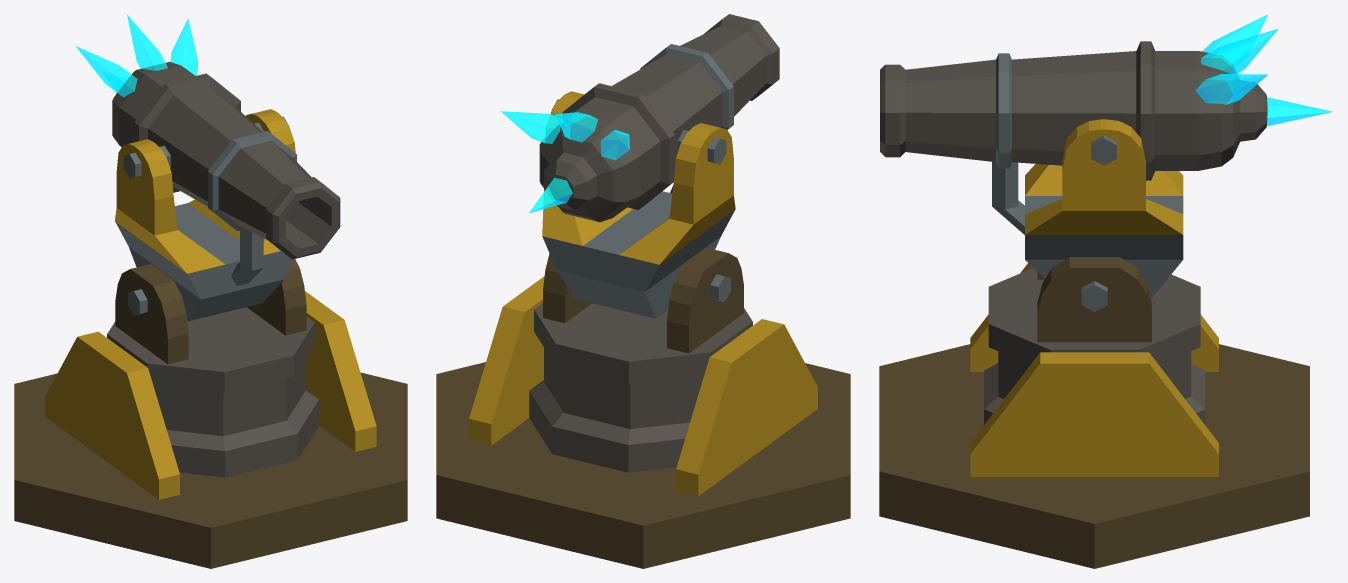
The model's file is turretTower_cannon01.fbx.
The picture shows the model from 3 angles, left to right: view 1: azimuth 30°, elevation 25°; view 2: azimuth 150°, elevation 25°; view 3: azimuth 270°, elevation 25°; orthographic projection. The views are drawn at different scales.
Visible parts, largest first — view 1: cannon01_base, cannon01_barrel; view 2: cannon01_base, cannon01_barrel; view 3: cannon01_base, cannon01_barrel.
Part boxes in pixels (bbox=[...]): cannon01_base: bbox=[14, 259, 407, 568]; cannon01_barrel: bbox=[75, 14, 340, 321]; cannon01_base: bbox=[436, 247, 850, 568]; cannon01_barrel: bbox=[500, 14, 779, 318]; cannon01_base: bbox=[879, 257, 1309, 568]; cannon01_barrel: bbox=[880, 14, 1332, 297].
Bounding box in the file's own units: 200 × 193 × 183.
